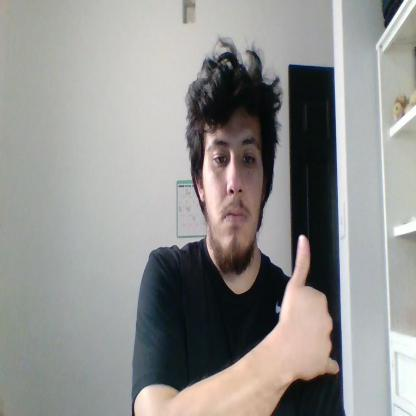Y: (278, 234, 340, 381)
